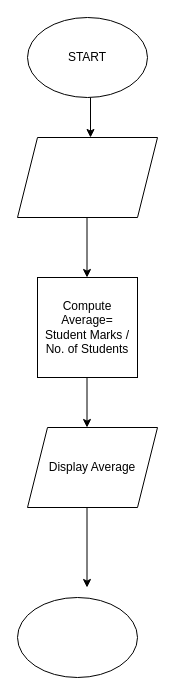
This 175x695 diagram has some shape labels left out. Here are the shapes that lost their labels. From the top down, the centre of each, then its label:
At point (87, 177): "Enter Student Marks Enter Number of Students".
At point (77, 637): "END".
